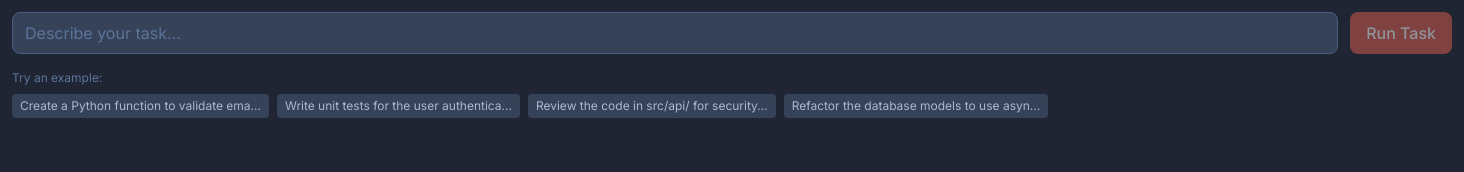
Test case: TaskInput › enables button when input has text
Type "Test task" into the field with placeholder "Describe your task...".
click(675, 33); type("Test task")  # box [12,12,1338,54]
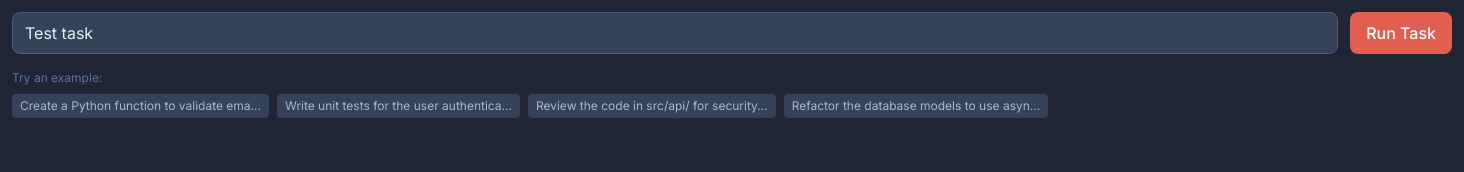
expect the button "Run Task" is enabled: met, box [1350,12,1452,54]
